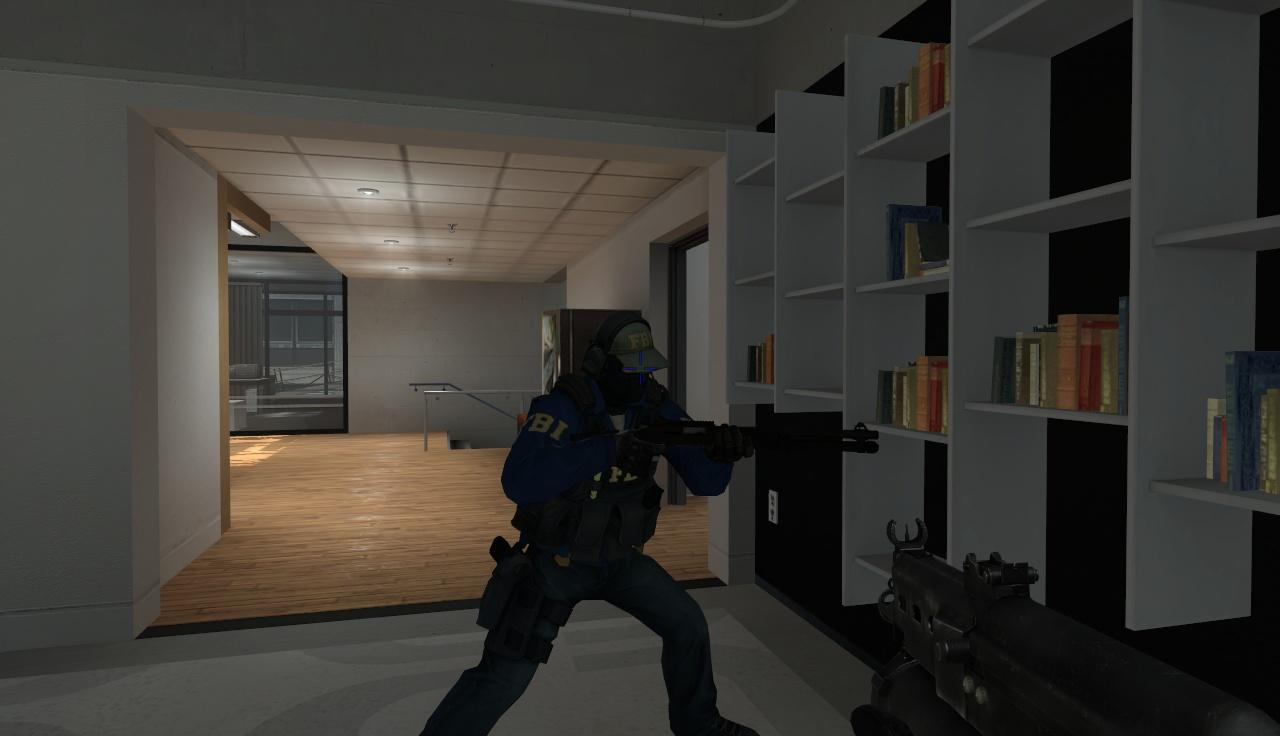ct: (500, 311, 714, 736)
cthead: (594, 316, 653, 400)
rifle: (855, 507, 1280, 736)
